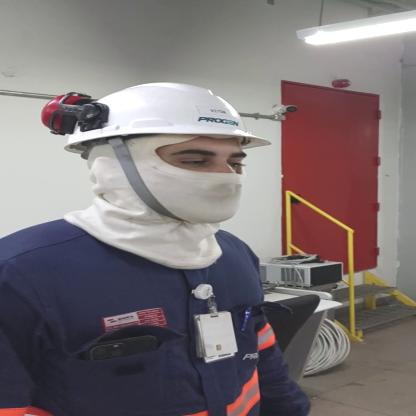Balaclava: (66, 143, 248, 268)
Capacete: (39, 81, 282, 150)
